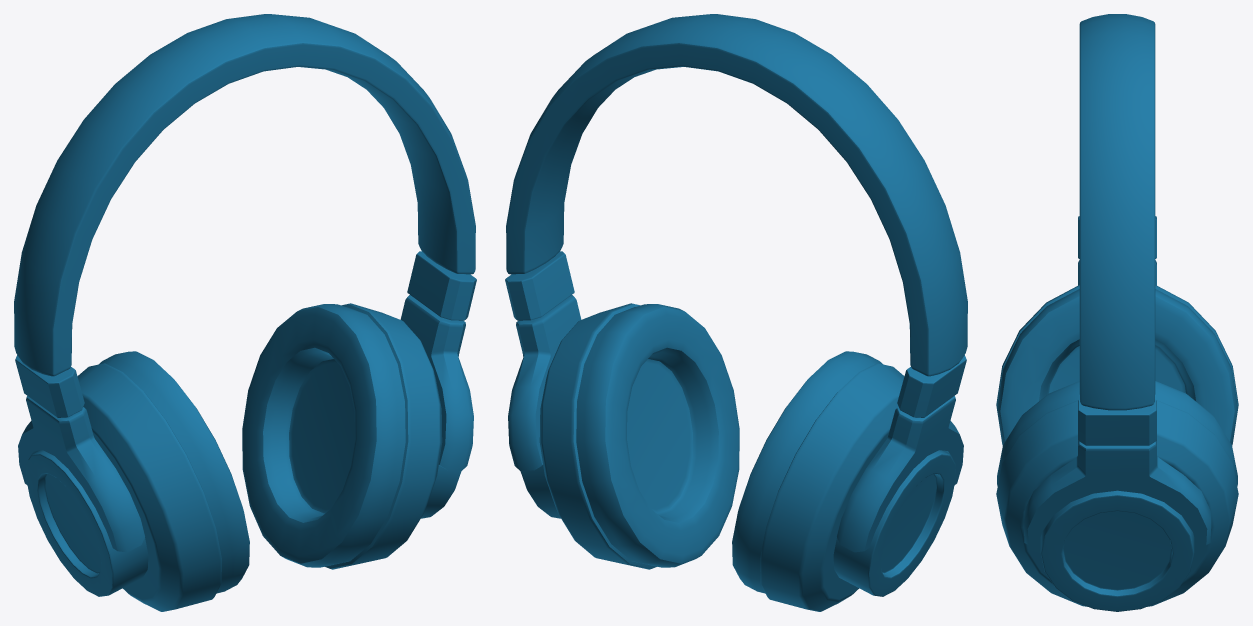
File: headphone_animation.fbx
The picture shows the model from 3 angles, left to right: view 1: azimuth 30°, elevation 25°; view 2: azimuth 150°, elevation 25°; view 3: azimuth 270°, elevation 25°; orthographic projection. The views are drawn at different scales.
Parts seen in each view (by area): view 1: Headphones_02; view 2: Headphones_02; view 3: Headphones_02.
Boxes of the visible parts, x1,y1,x2,y2 form: Headphones_02: (14,14,476,611); Headphones_02: (505,14,967,611); Headphones_02: (996,14,1238,611).
Bounding box in the file's own units: 9.24 × 11.16 × 4.63.
